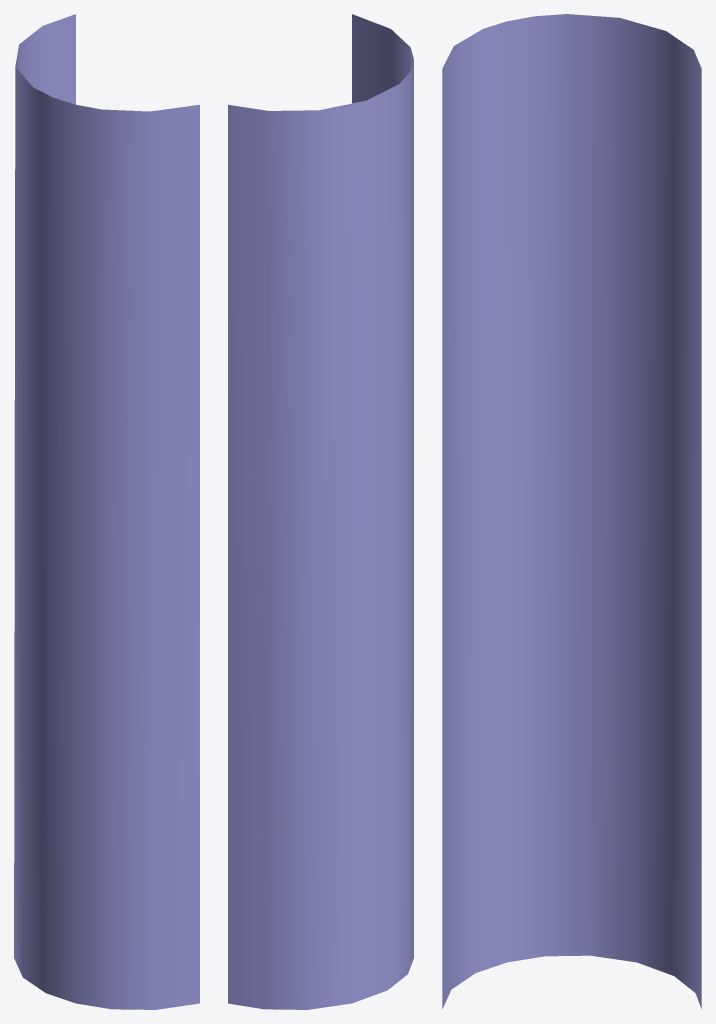
Rendered from original-183.obj.
The picture shows the model from 3 angles, left to right: view 1: azimuth 30°, elevation 25°; view 2: azimuth 150°, elevation 25°; view 3: azimuth 270°, elevation 25°; orthographic projection. The views are drawn at different scales.
Parts seen in each view (by area): view 1: Group142/mesh177/mesh177-geometry#mesh177-geometry; view 2: Group142/mesh177/mesh177-geometry#mesh177-geometry; view 3: Group142/mesh177/mesh177-geometry#mesh177-geometry.
Boxes of the visible parts, bbox=[...] form: Group142/mesh177/mesh177-geometry#mesh177-geometry: bbox=[14, 14, 199, 1009]; Group142/mesh177/mesh177-geometry#mesh177-geometry: bbox=[228, 14, 413, 1009]; Group142/mesh177/mesh177-geometry#mesh177-geometry: bbox=[442, 14, 701, 1008].
Bounding box in the file's own units: 0.0635 × 0.5087 × 0.1272.
